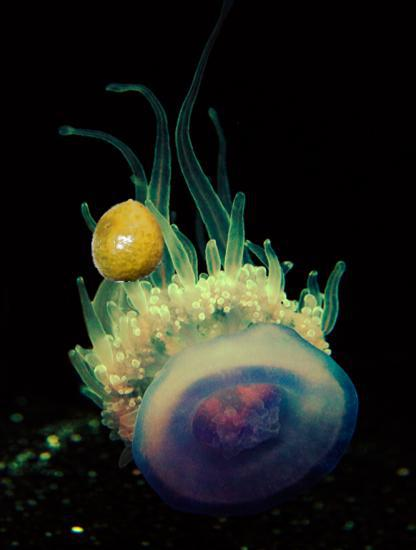Guava: (86, 199, 170, 283)
